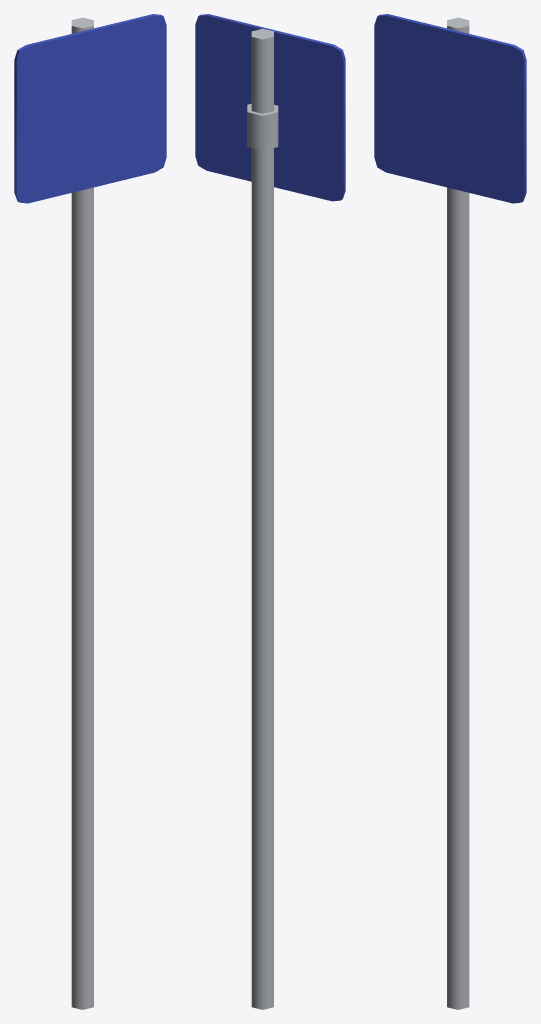
Rendered from SM_trafficsign_07.fbx.
The picture shows the model from 3 angles, left to right: view 1: azimuth 30°, elevation 25°; view 2: azimuth 150°, elevation 25°; view 3: azimuth 330°, elevation 25°; orthographic projection.
Visible parts, largest first — view 1: Cylinder036; view 2: Cylinder036; view 3: Cylinder036.
Boxes of the visible parts, bbox=[...] form: Cylinder036: bbox=[14, 14, 166, 1009]; Cylinder036: bbox=[195, 14, 345, 1009]; Cylinder036: bbox=[374, 14, 526, 1009].
Size of the model in its own units: 19.69 by 3.77 by 123.
